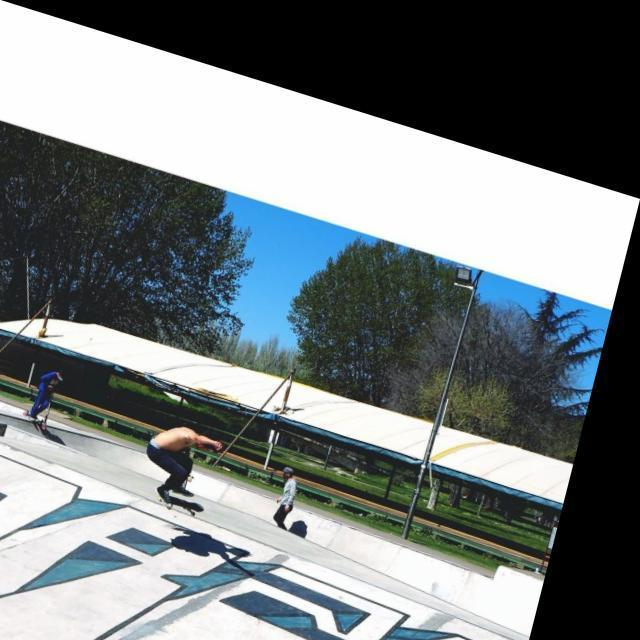-: (0, 400, 560, 640)
